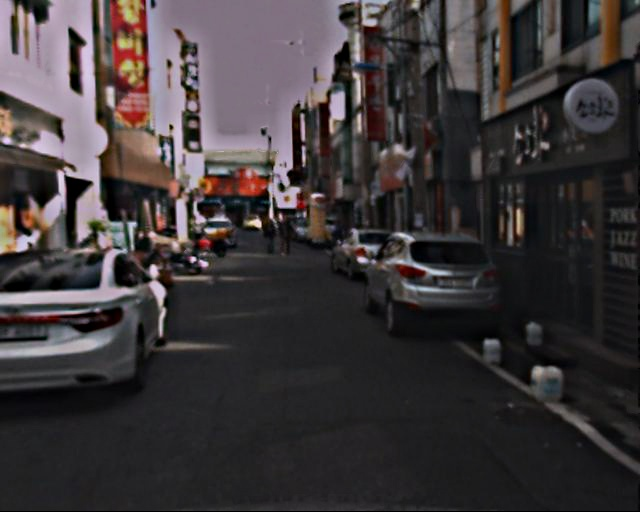person: (327, 215, 348, 268), (278, 213, 298, 264), (260, 214, 280, 260)
